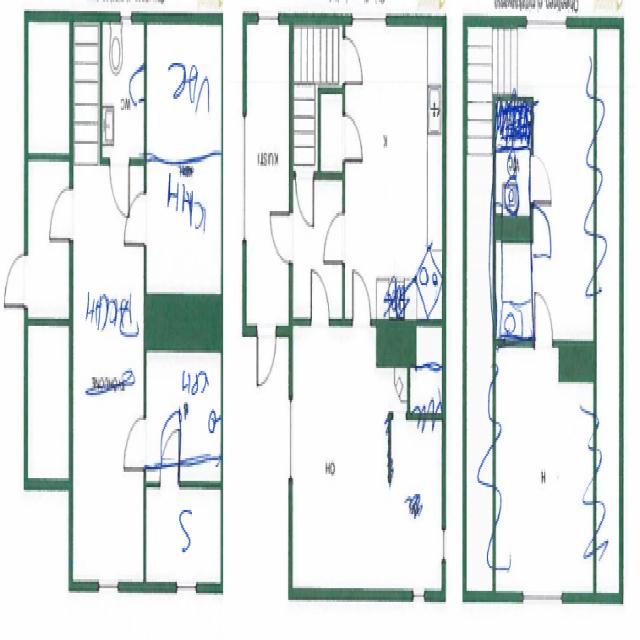door: (122, 194, 146, 247), (4, 254, 28, 306), (50, 188, 74, 239), (124, 418, 147, 468), (160, 421, 180, 478), (110, 161, 130, 217), (295, 172, 314, 230), (257, 327, 275, 388), (531, 207, 553, 255), (311, 271, 329, 327), (353, 270, 370, 326), (272, 215, 292, 262), (325, 215, 345, 262), (538, 294, 554, 348), (342, 116, 362, 159), (342, 38, 362, 81), (128, 64, 146, 102)
